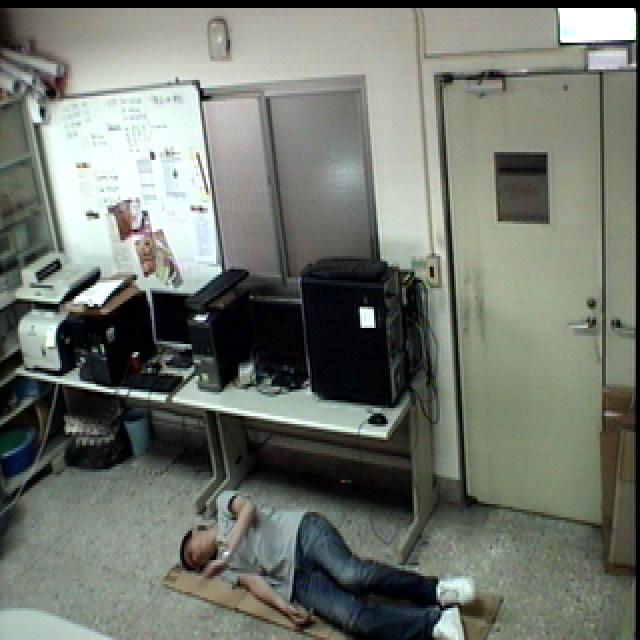lie: (177, 482, 489, 640)
